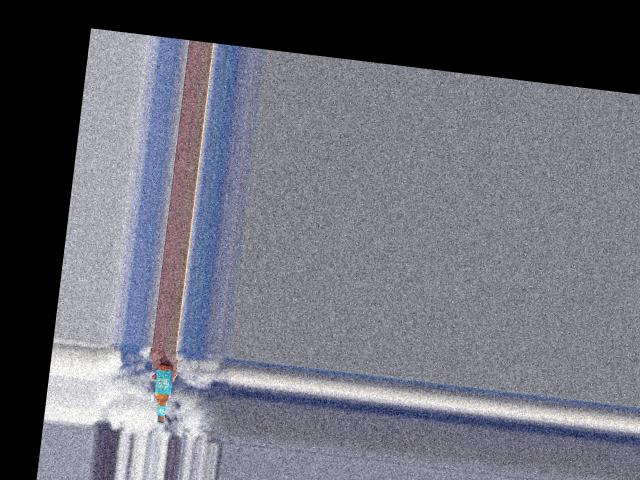beer: (152, 363, 174, 424)
